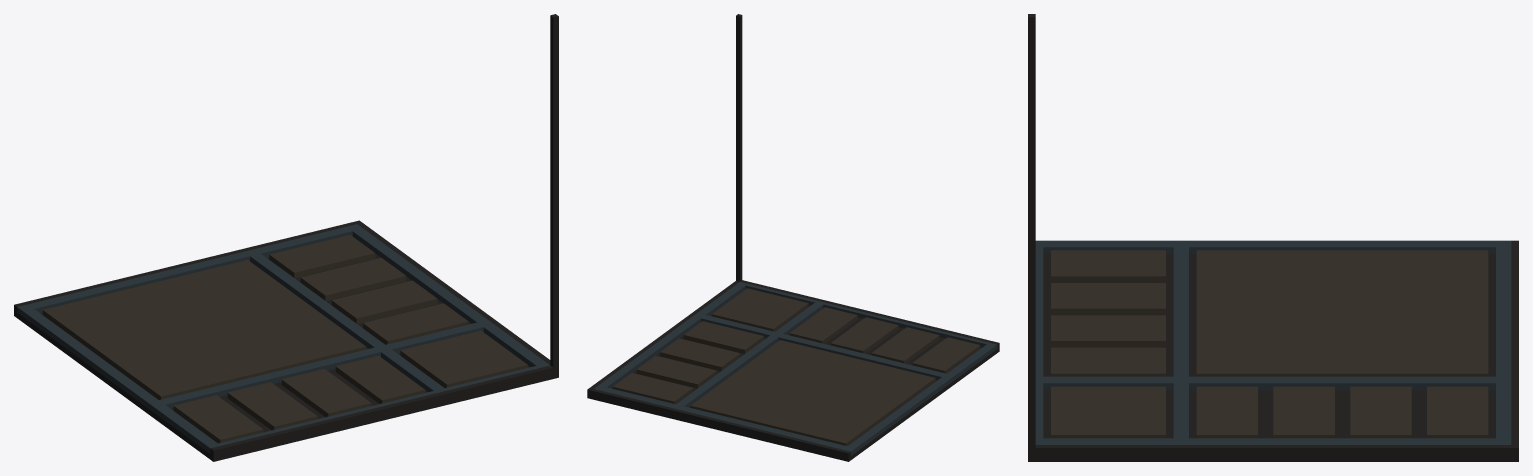
File: corridor_bend_2.obj
The picture shows the model from 3 angles, left to right: view 1: azimuth 30°, elevation 25°; view 2: azimuth 150°, elevation 25°; view 3: azimuth 270°, elevation 25°; orthographic projection. The views are drawn at different scales.
Size of the model in its own units: 6.4 by 6.4 by 6.4.
1 material, 1 textured.
